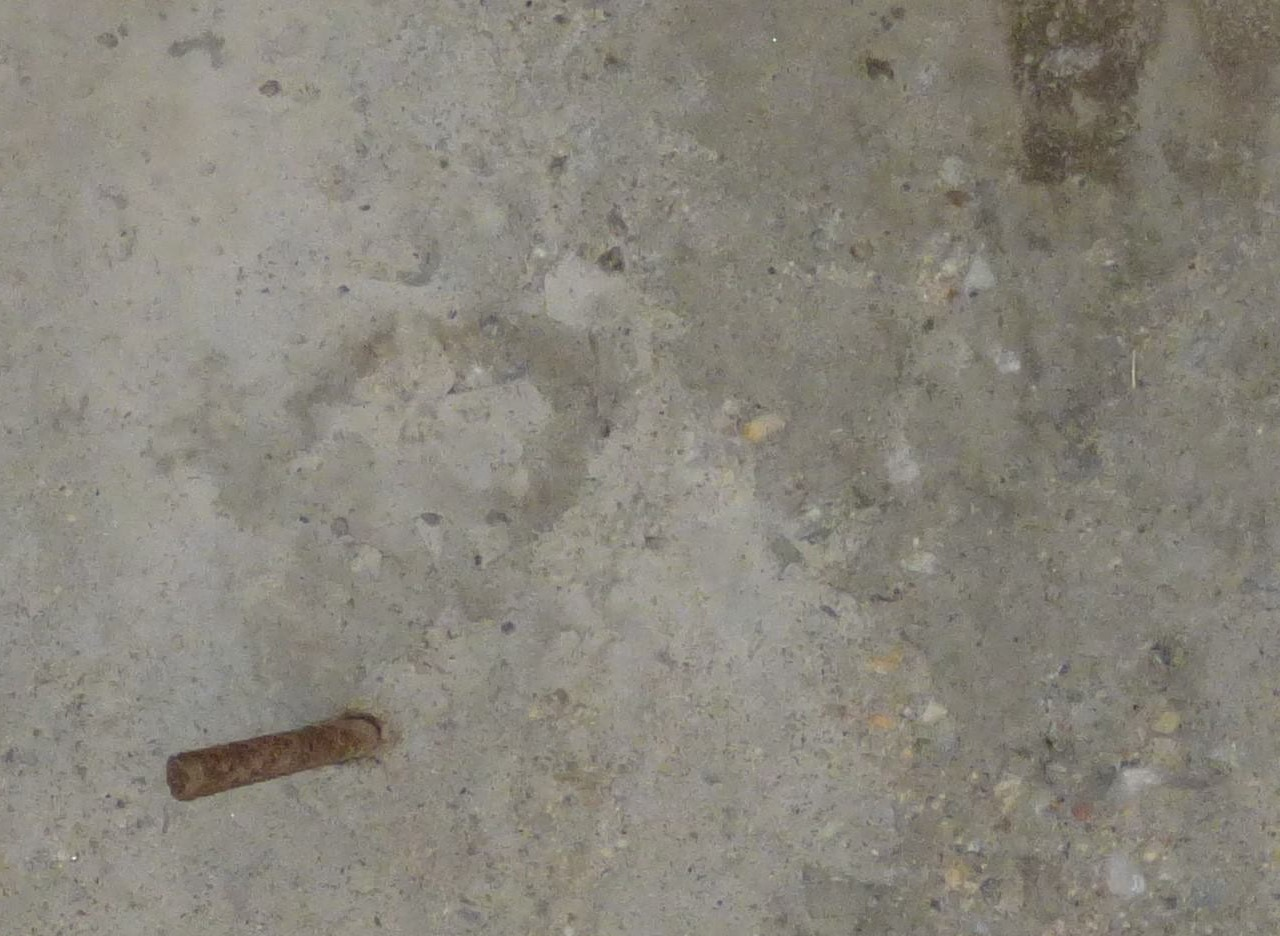Exposed reinforcement: (165, 718, 380, 802)
